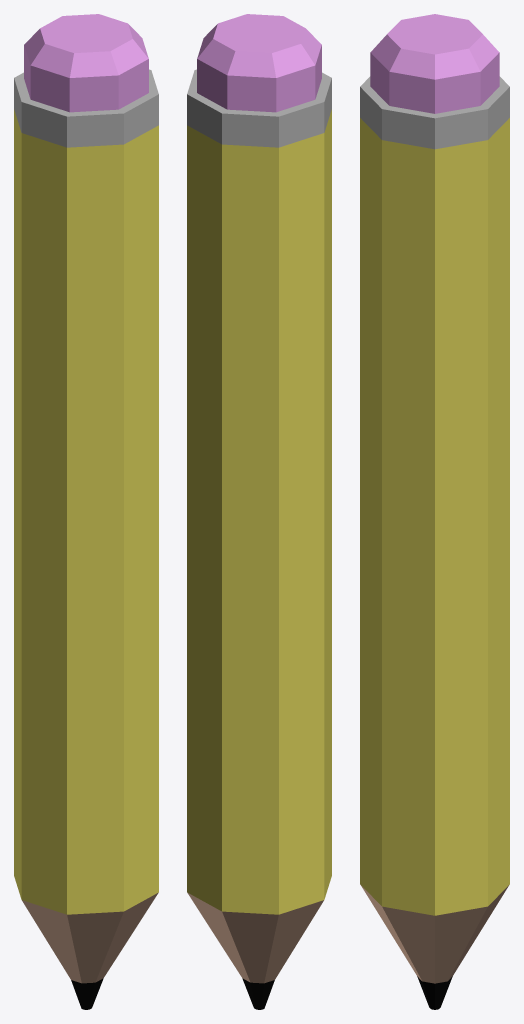
Rendered from pencil.gltf.
3 renders of one model, left to right at view 1: azimuth 30°, elevation 25°; view 2: azimuth 150°, elevation 25°; view 3: azimuth 270°, elevation 25°, orthographic.
Visible parts, largest first — view 1: Cylinder; view 2: Cylinder; view 3: Cylinder.
Boxes of the visible parts, x1,y1,x2,y2 form: Cylinder: (14,14,158,1009); Cylinder: (187,14,331,1009); Cylinder: (360,14,509,1009).
Size of the model in its own units: 2 by 14.33 by 2.
